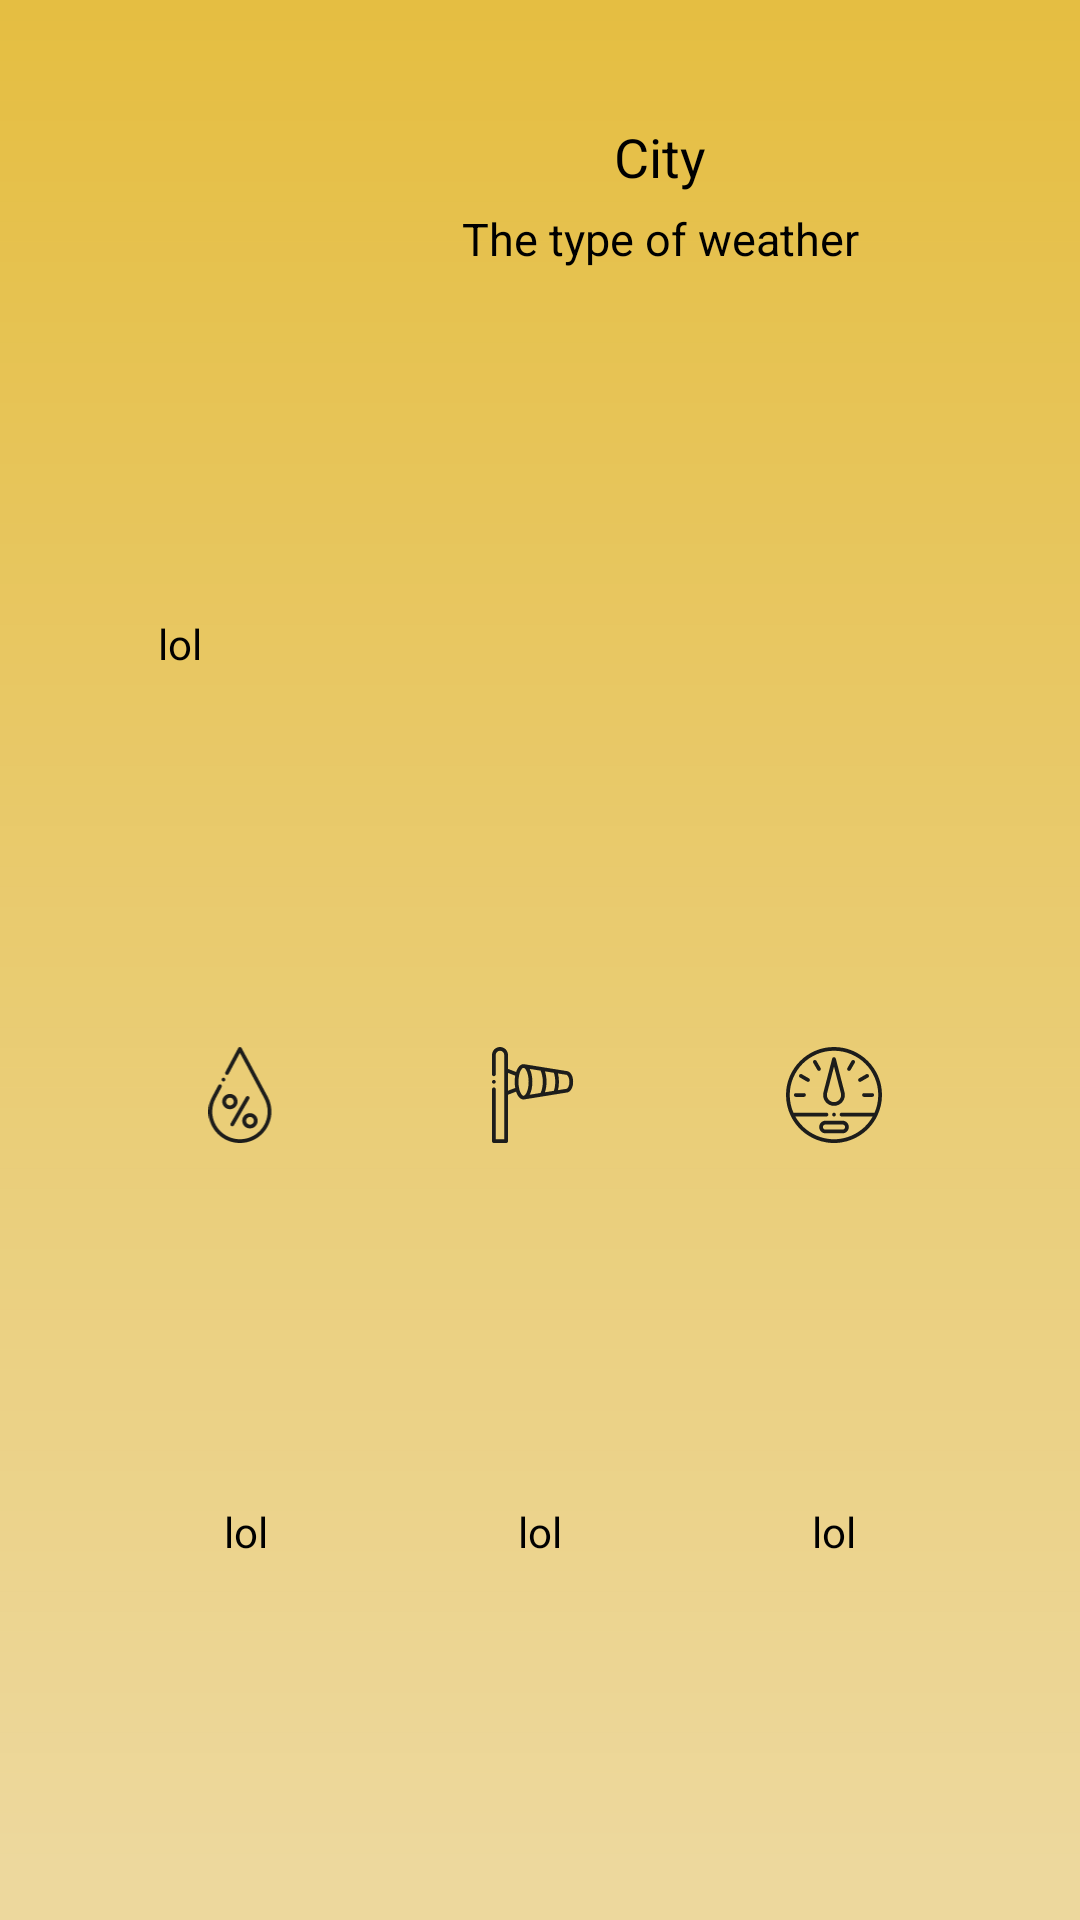

Icon click points for this 1080 x 1920 phone screenshot, format (x=x, y=y):
humidity: (x=240, y=1095)
pressure: (x=834, y=1095)
wind: (x=532, y=1095)
